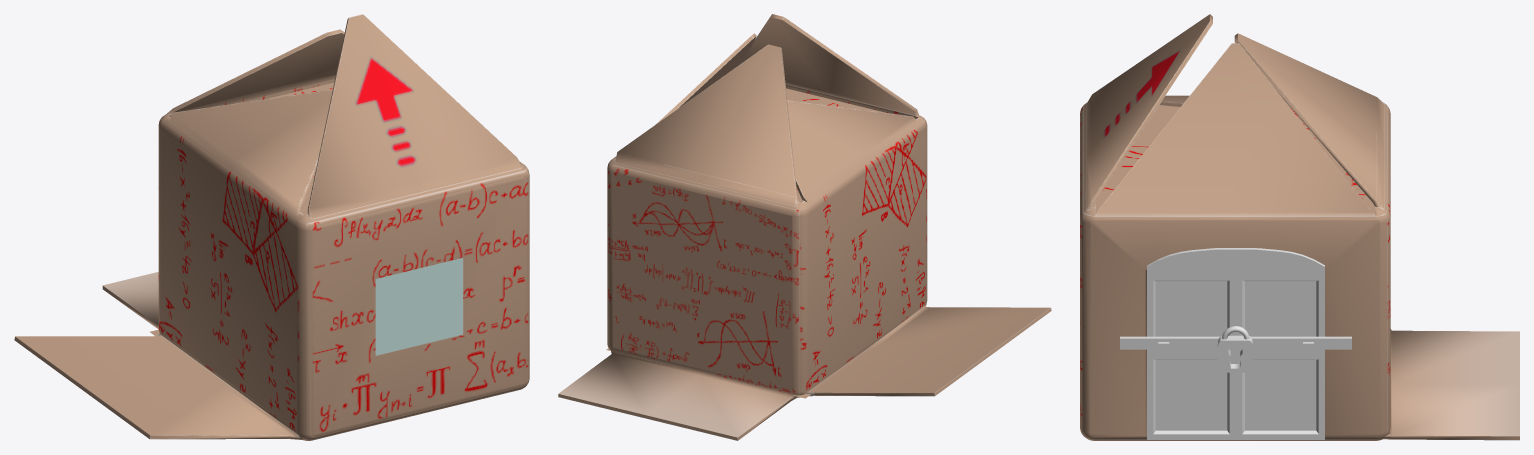
File: dooshuis final rood.fbx
3 views of the same model, side by side, from view 1: azimuth 30°, elevation 25°; view 2: azimuth 150°, elevation 25°; view 3: azimuth 270°, elevation 25° (orthographic). The views are drawn at different scales.
Visible parts, largest first — view 1: Cube_4, Cube_2; view 2: Cube_2, Cube_4; view 3: Cube_2, Cube, Cube_4, Cube_1, Torus_1.
Boxes of the visible parts, x1=… form: Cube_4: x1=160, y1=129, x2=526, y2=436; Cube_2: x1=14, y1=14, x2=529, y2=440; Cube_2: x1=558, y1=14, x2=1051, y2=440; Cube_4: x1=808, y1=129, x2=925, y2=388; Cube_2: x1=1080, y1=14, x2=1519, y2=440; Cube: x1=1147, y1=248, x2=1324, y2=439; Cube_4: x1=1080, y1=111, x2=1379, y2=435; Cube_1: x1=1120, y1=336, x2=1351, y2=349; Torus_1: x1=1217, y1=326, x2=1253, y2=372.
Size of the model in its own units: 1122 by 969 by 1045.
Materials: 1 (1 with a texture image).
